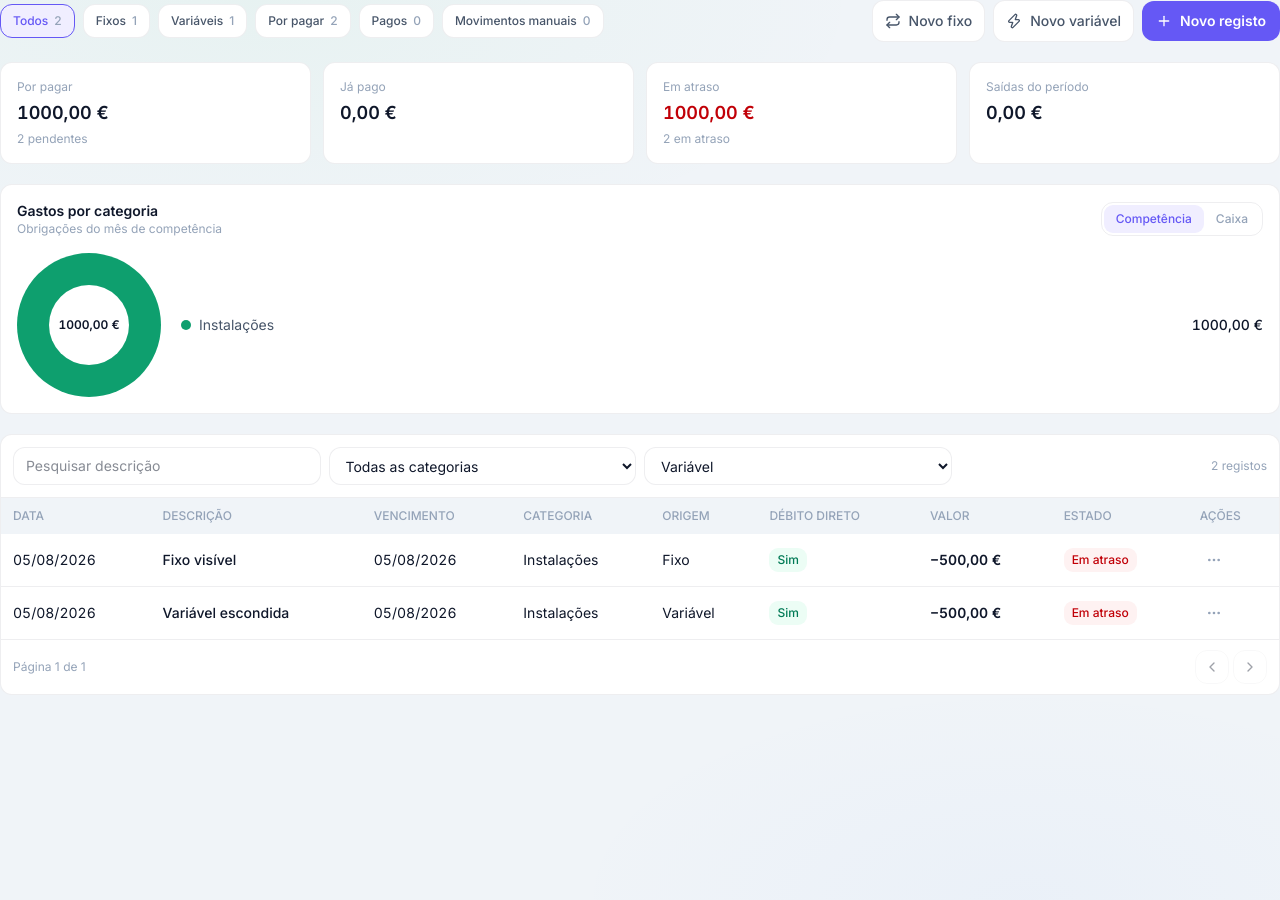
Scenario: 1. fixos e variáveis voltam a ser separadores › 🔴 Origem=Variável não esvazia o separador Fixos
Select "Variável" in the 2nd dropdown. click: (798, 466)
box: x1=644 y1=447 x2=952 y2=485
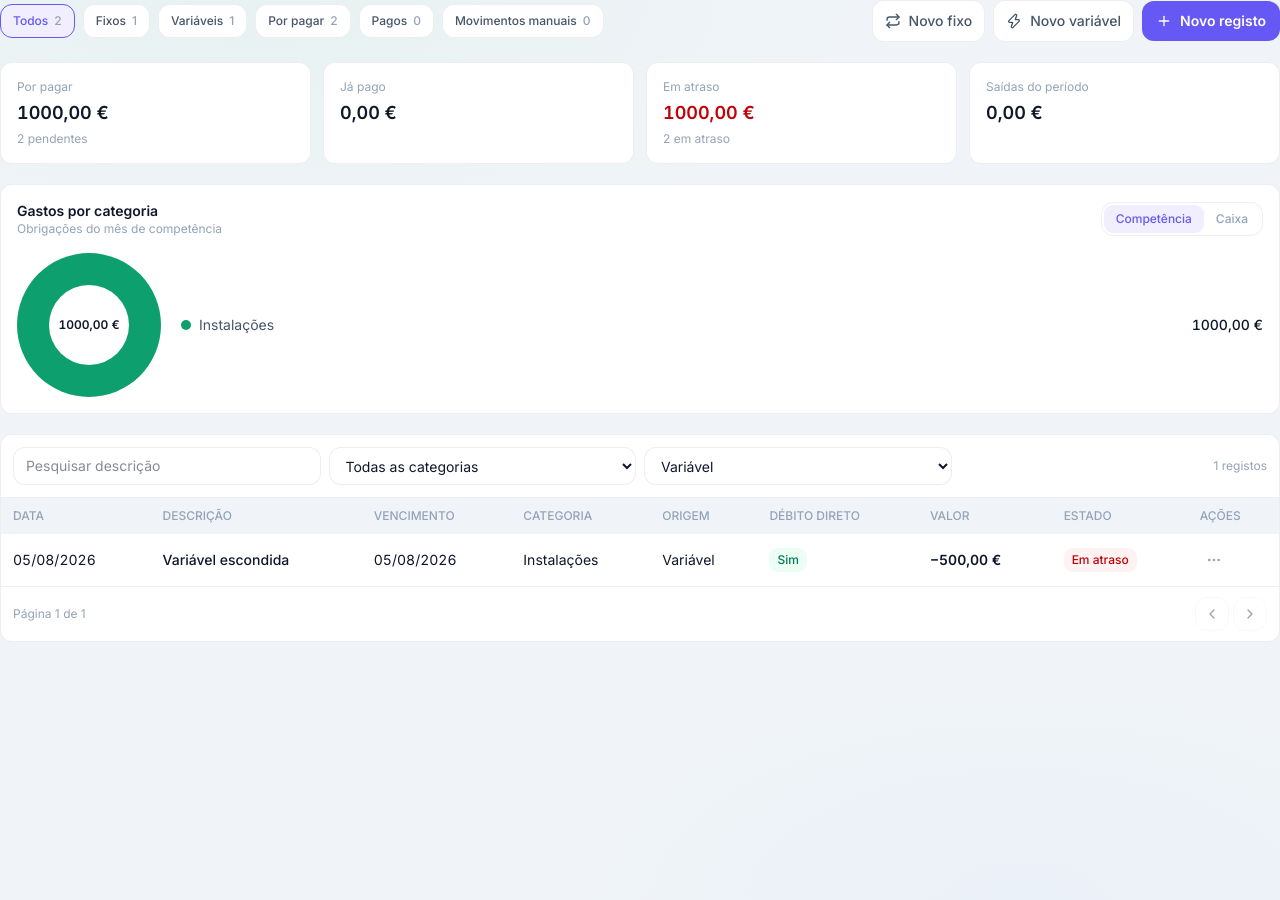
Click the button "Fixos1". click: click(116, 21)
box: x1=83 y1=4 x2=150 y2=38
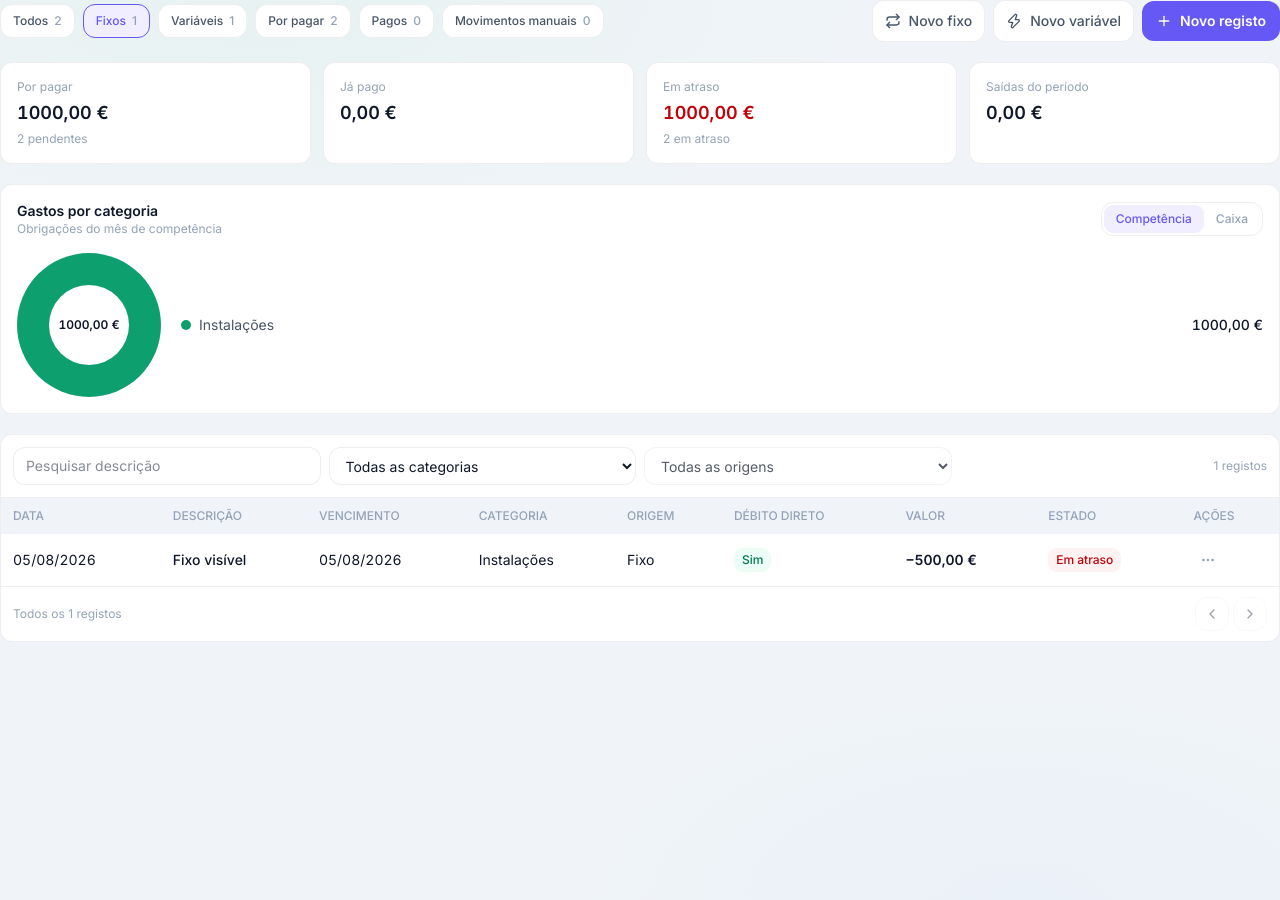
Now the text "Fixo visível" is shown, box x1=161 y1=534 x2=307 y2=586
Now the text "Variável escondida" is gone
Now the 2nd dropdown is disabled, box x1=644 y1=447 x2=952 y2=485
